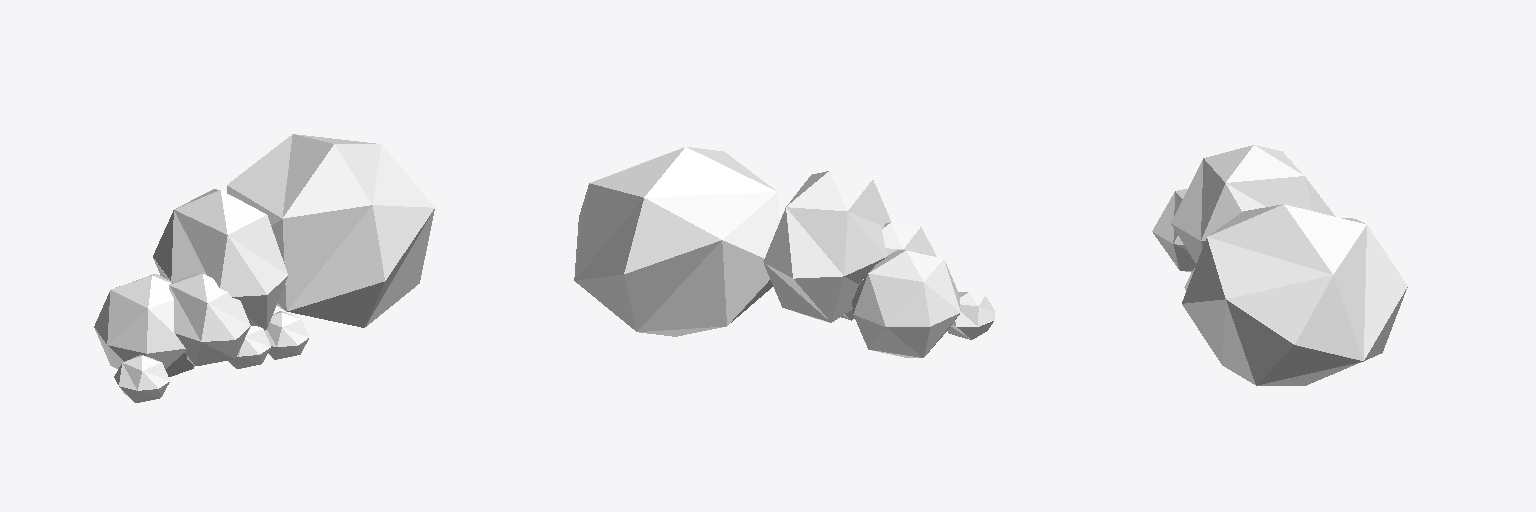
Rendered from cloud1.obj.
3 renders of one model, left to right at view 1: azimuth 30°, elevation 25°; view 2: azimuth 150°, elevation 25°; view 3: azimuth 270°, elevation 25°, orthographic.
Parts seen in each view (by area): view 1: GeoSphere032 Mesh, GeoSphere026 Mesh, GeoSphere029 Mesh, GeoSphere028 Mesh, GeoSphere030 Mesh, GeoSphere031 Mesh, GeoSphere027 Mesh; view 2: GeoSphere032 Mesh, GeoSphere026 Mesh, GeoSphere029 Mesh, GeoSphere030 Mesh, GeoSphere028 Mesh; view 3: GeoSphere032 Mesh, GeoSphere026 Mesh, GeoSphere028 Mesh.
Part boxes in pixels (bbox=[...]): GeoSphere032 Mesh: bbox=[227, 134, 434, 327]; GeoSphere026 Mesh: bbox=[153, 189, 287, 330]; GeoSphere029 Mesh: bbox=[94, 274, 194, 376]; GeoSphere028 Mesh: bbox=[169, 273, 250, 365]; GeoSphere030 Mesh: bbox=[114, 355, 169, 402]; GeoSphere031 Mesh: bbox=[265, 311, 309, 359]; GeoSphere027 Mesh: bbox=[228, 326, 270, 368]; GeoSphere032 Mesh: bbox=[574, 147, 779, 336]; GeoSphere026 Mesh: bbox=[763, 171, 891, 322]; GeoSphere029 Mesh: bbox=[852, 250, 960, 357]; GeoSphere030 Mesh: bbox=[947, 292, 994, 339]; GeoSphere028 Mesh: bbox=[859, 223, 936, 284]; GeoSphere032 Mesh: bbox=[1182, 204, 1407, 385]; GeoSphere026 Mesh: bbox=[1171, 145, 1335, 263]; GeoSphere028 Mesh: bbox=[1152, 189, 1195, 272].
Size of the model in its own units: 211 by 101 by 129.